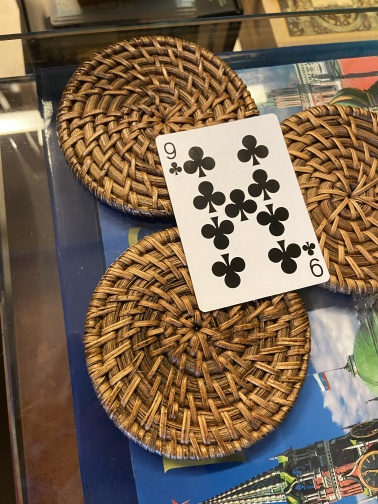nine: (154, 111, 330, 313)
